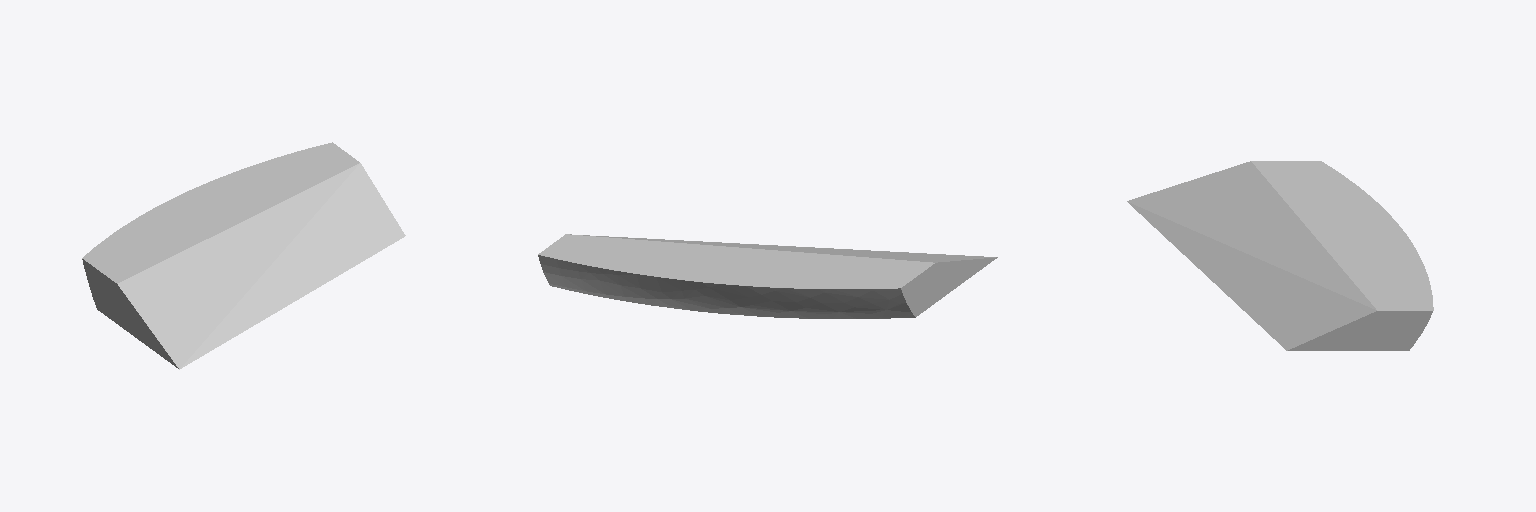
File: skillet_collision_17.obj
The picture shows the model from 3 angles: view 1: azimuth 30°, elevation 25°; view 2: azimuth 150°, elevation 25°; view 3: azimuth 270°, elevation 25°; orthographic projection.
Size of the model in its own units: 0.0526 by 0.0066 by 0.0456.